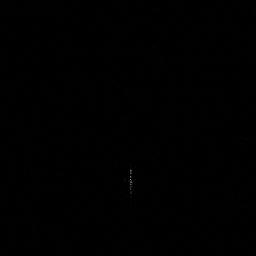ship: (127, 167, 134, 197)
